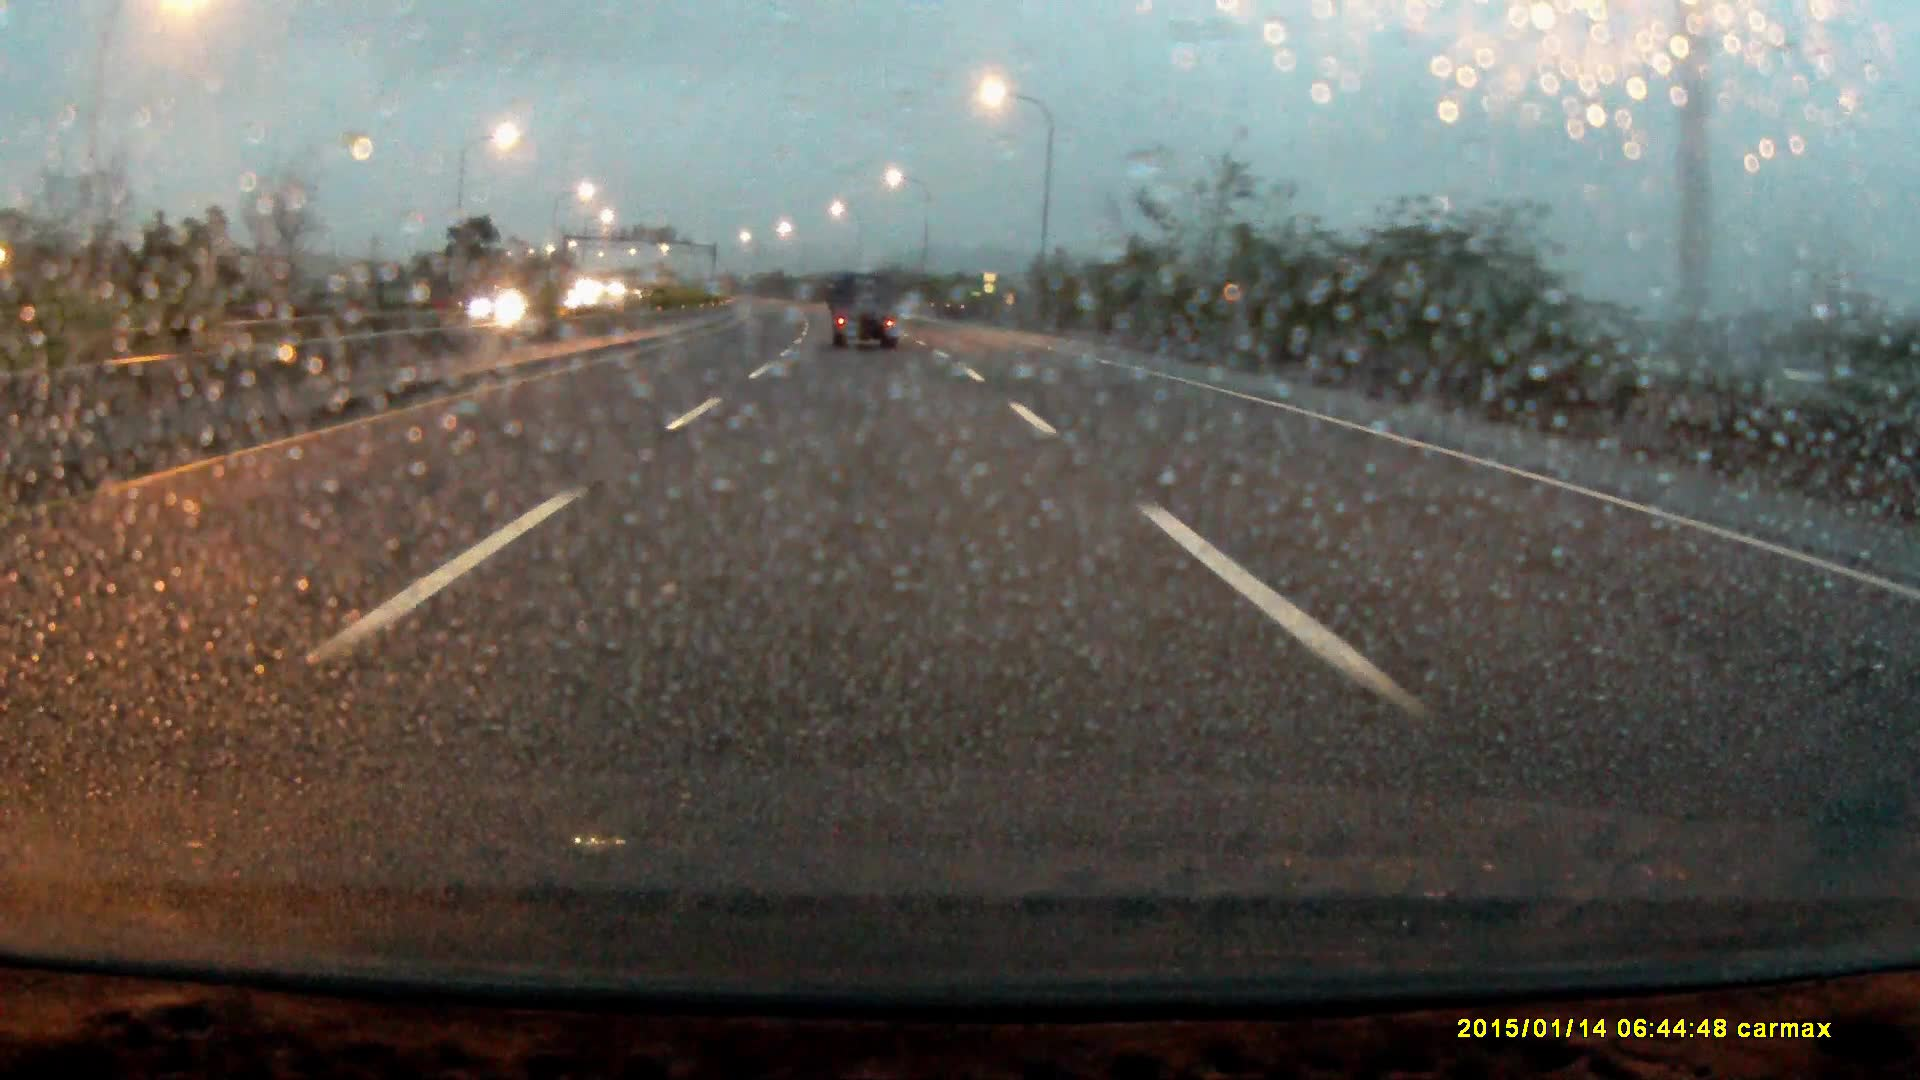vehicle: (832, 276, 899, 351), (467, 287, 545, 324)
